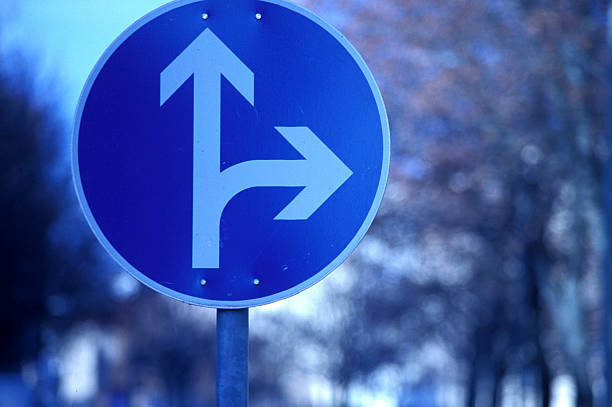ileri_veya_saga: (74, 4, 395, 309)
